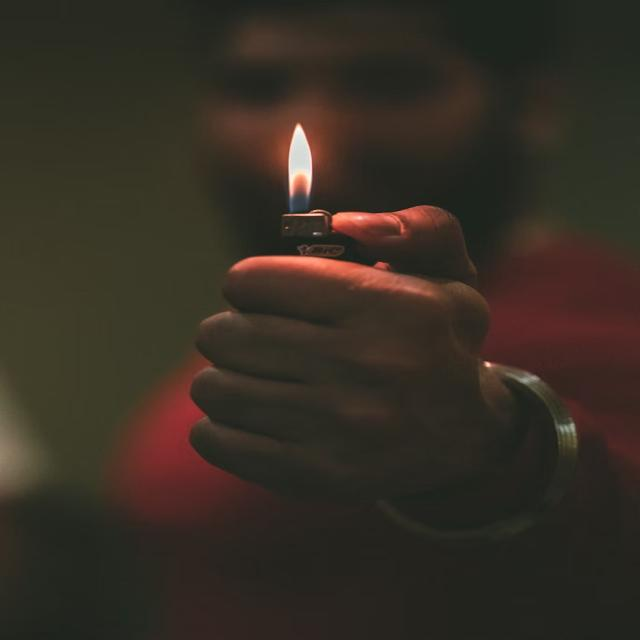fire: (287, 122, 314, 214)
